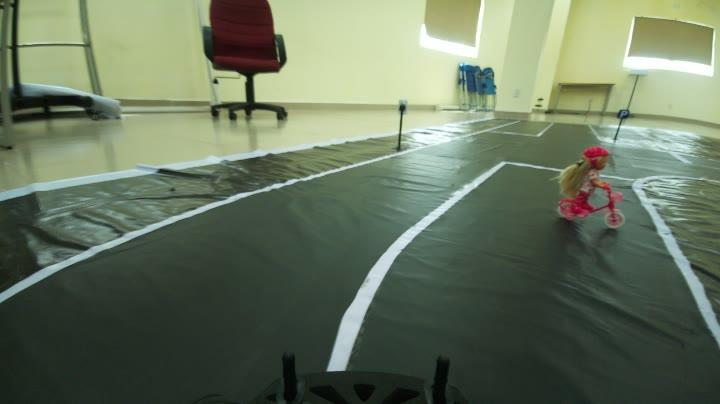pedestrian: (552, 140, 627, 226)
